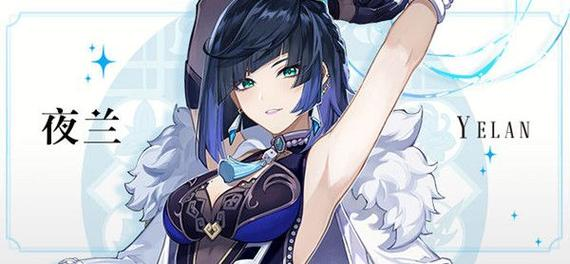夜兰: (159, 1, 457, 264)
